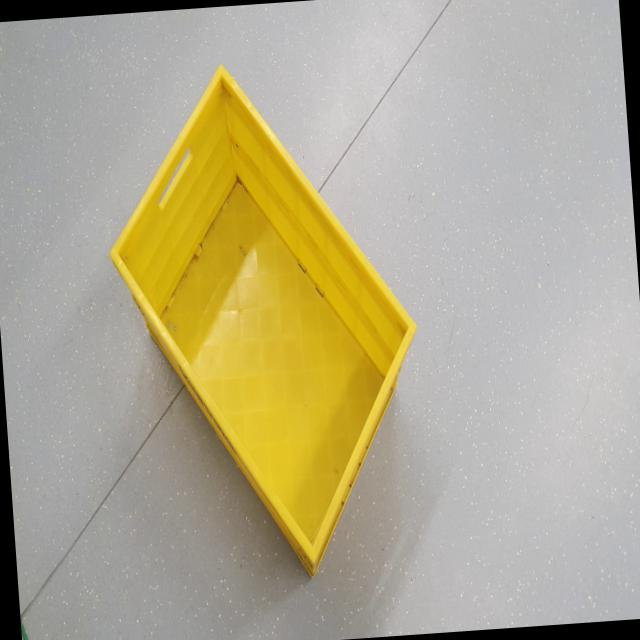box: (90, 32, 440, 612)
